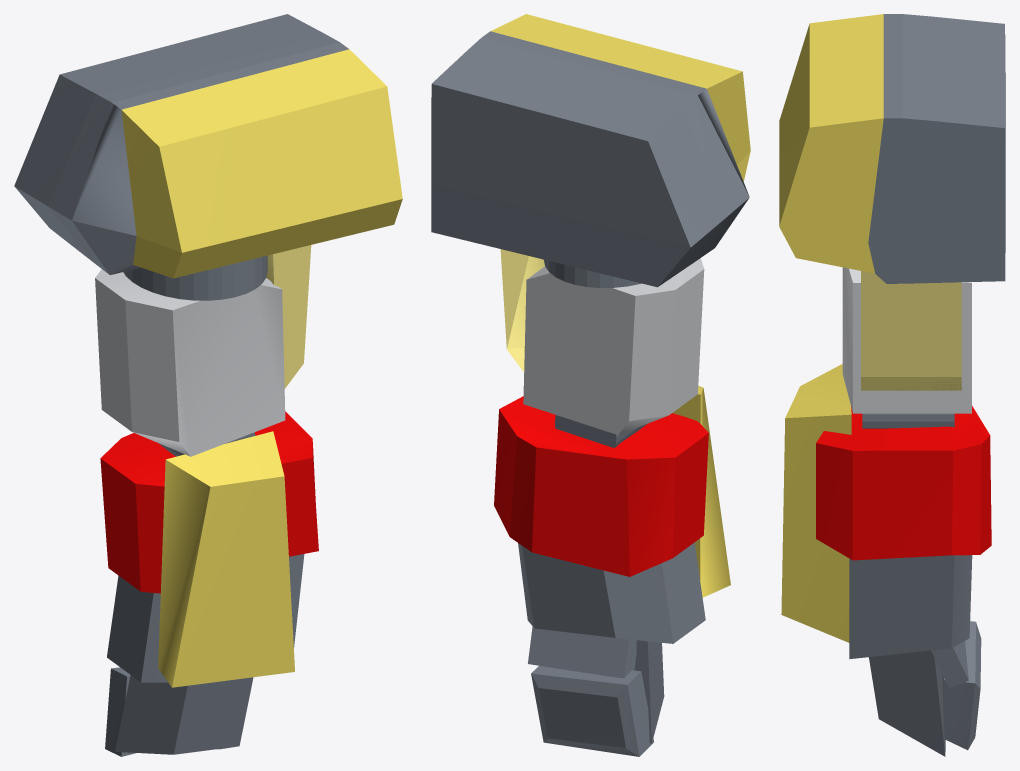
Rendered from Arm_L.fbx.
3 views of the same model, side by side, from view 1: azimuth 30°, elevation 25°; view 2: azimuth 150°, elevation 25°; view 3: azimuth 270°, elevation 25° (orthographic). The views are drawn at different scales.
Parts seen in each view (by area): view 1: UpperArm_L, LowerArm_L, Hand_L; view 2: UpperArm_L, LowerArm_L, Hand_L; view 3: UpperArm_L, LowerArm_L, Hand_L.
Part boxes in pixels (x1,y1,x2,y2): UpperArm_L: (14, 14, 402, 456); LowerArm_L: (100, 411, 318, 687); Hand_L: (105, 667, 253, 756); UpperArm_L: (431, 14, 750, 447); LowerArm_L: (494, 386, 730, 643); Hand_L: (528, 626, 664, 756); UpperArm_L: (779, 14, 1005, 428); LowerArm_L: (781, 364, 991, 659); Hand_L: (869, 621, 981, 756).
Size of the model in its own units: 427 by 1036 by 310.
